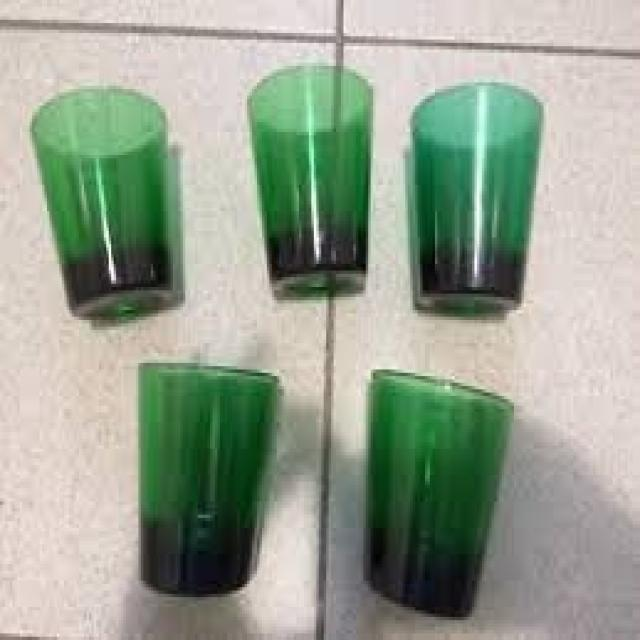glass: (363, 363, 512, 617), (136, 360, 277, 594), (30, 83, 171, 317), (245, 60, 371, 294), (410, 83, 541, 304)
